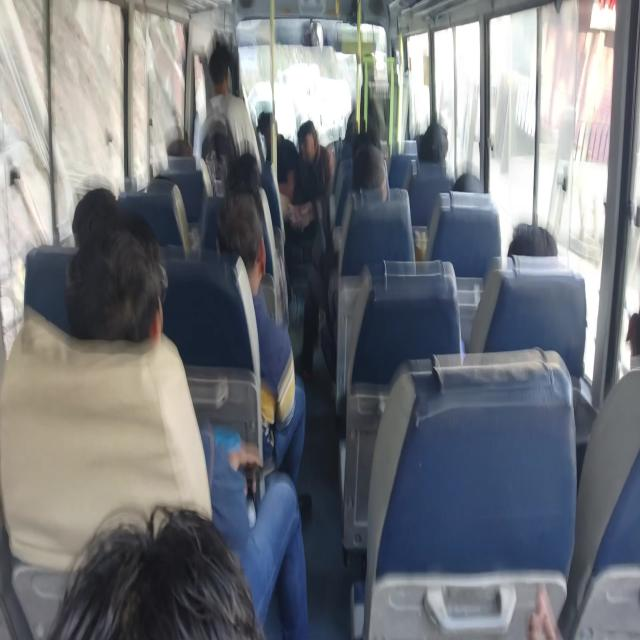person: (101, 501, 317, 640), (77, 240, 151, 330), (598, 264, 640, 365), (506, 214, 558, 268), (217, 214, 256, 265), (88, 184, 117, 237), (146, 171, 178, 217), (208, 35, 241, 78), (354, 156, 386, 198), (352, 127, 390, 161), (431, 118, 454, 168), (451, 167, 495, 193), (299, 127, 321, 172), (260, 116, 290, 148), (226, 164, 252, 190), (172, 128, 194, 158), (238, 152, 255, 172), (408, 128, 424, 148)
